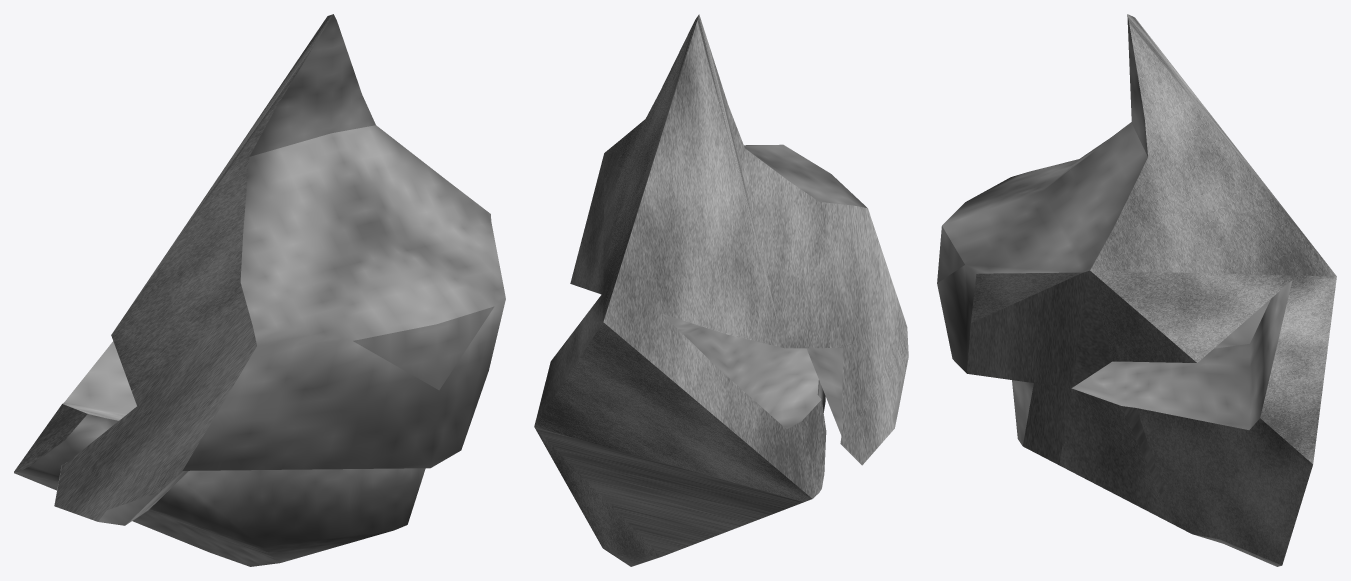
Rendered from body_cell_074.fbx.
The picture shows the model from 3 angles, left to right: view 1: azimuth 30°, elevation 25°; view 2: azimuth 150°, elevation 25°; view 3: azimuth 270°, elevation 25°; orthographic projection. The views are drawn at different scales.
Visible parts, largest first — view 1: body_cell.074; view 2: body_cell.074; view 3: body_cell.074.
Boxes of the visible parts, bbox=[...] form: body_cell.074: bbox=[14, 14, 505, 566]; body_cell.074: bbox=[534, 14, 908, 566]; body_cell.074: bbox=[937, 14, 1336, 566].
Bounding box in the file's own units: 27.24 × 42.54 × 27.88.
